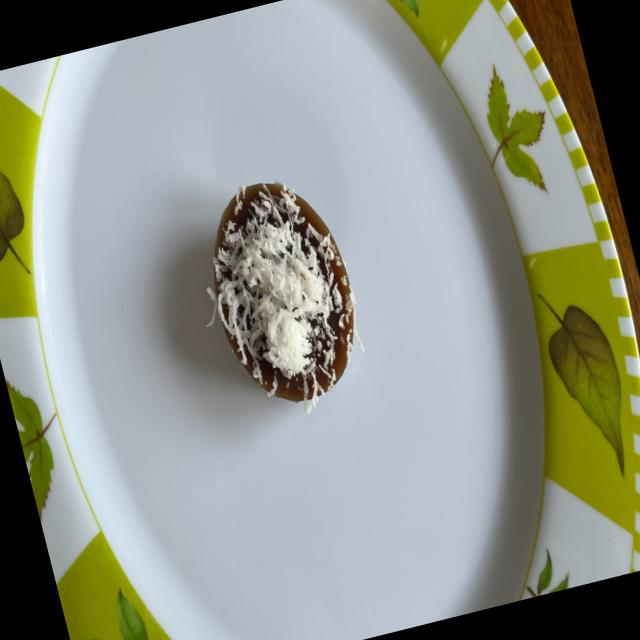Kuih lompang: (208, 182, 358, 408)
